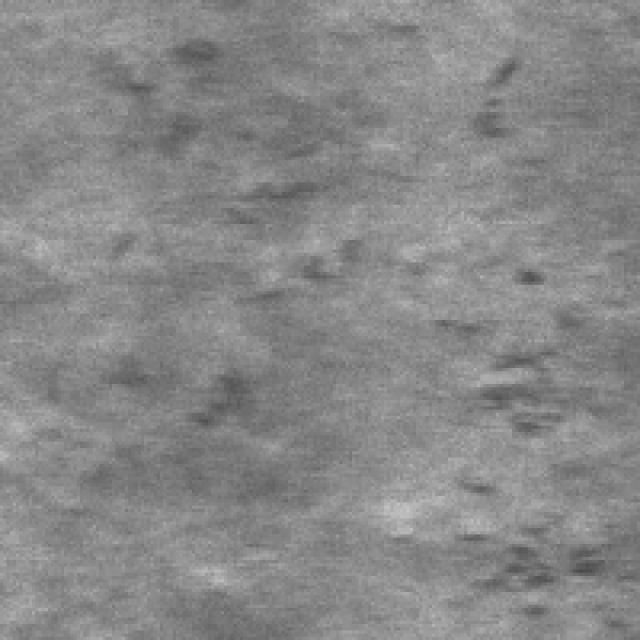rolled-in_scale: (426, 262, 618, 637), (185, 157, 342, 445)
